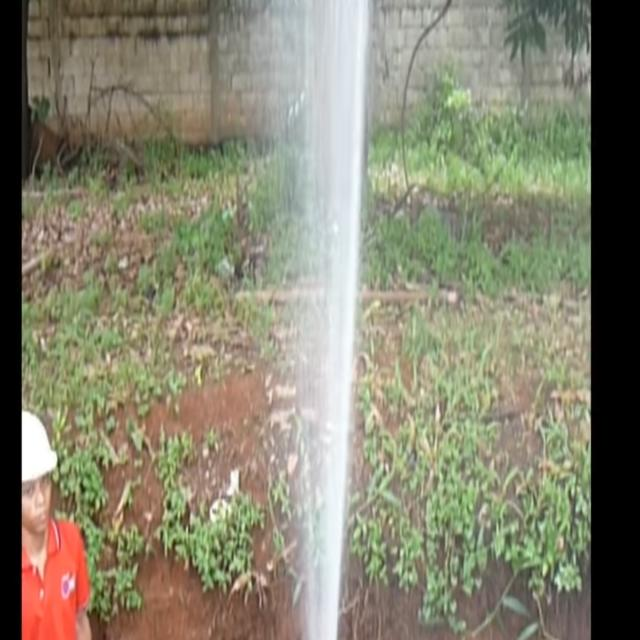leak: (296, 0, 370, 638)
